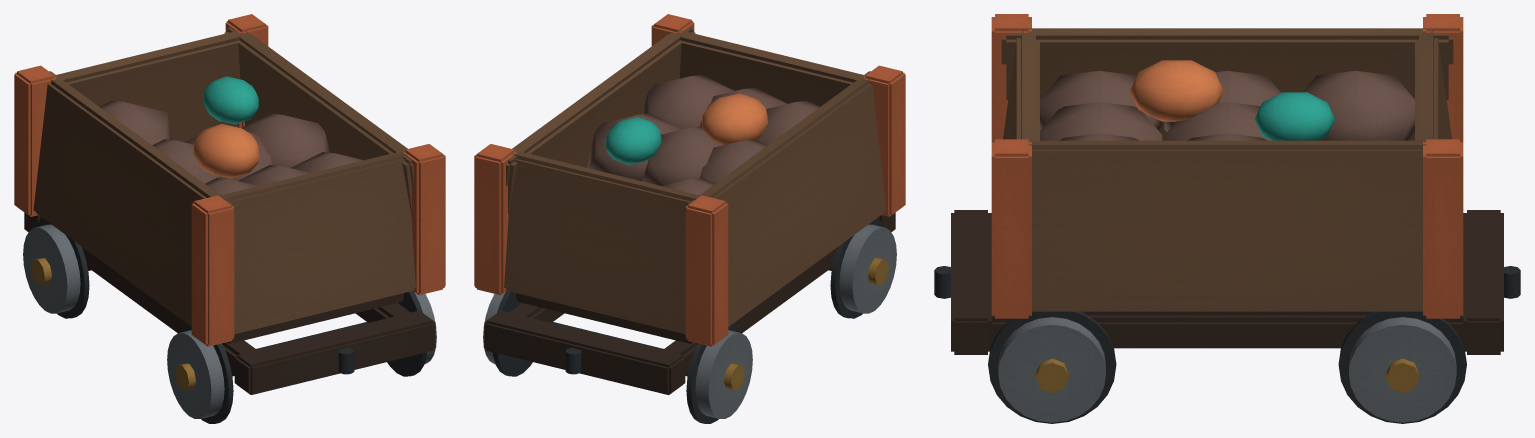
The model's file is cart_mine_ore.glb.
3 views of the same model, side by side, from view 1: azimuth 30°, elevation 25°; view 2: azimuth 150°, elevation 25°; view 3: azimuth 270°, elevation 25° (orthographic). The views are drawn at different scales.
Parts seen in each view (by area): view 1: cart_mine_ore; view 2: cart_mine_ore; view 3: cart_mine_ore.
Part boxes in pixels (x1=…): cart_mine_ore: x1=14, y1=14, x2=445, y2=423; cart_mine_ore: x1=474, y1=14, x2=905, y2=423; cart_mine_ore: x1=934, y1=14, x2=1520, y2=423.
Size of the model in its own units: 1 by 0.94 by 1.74.
1 material, 1 textured.
